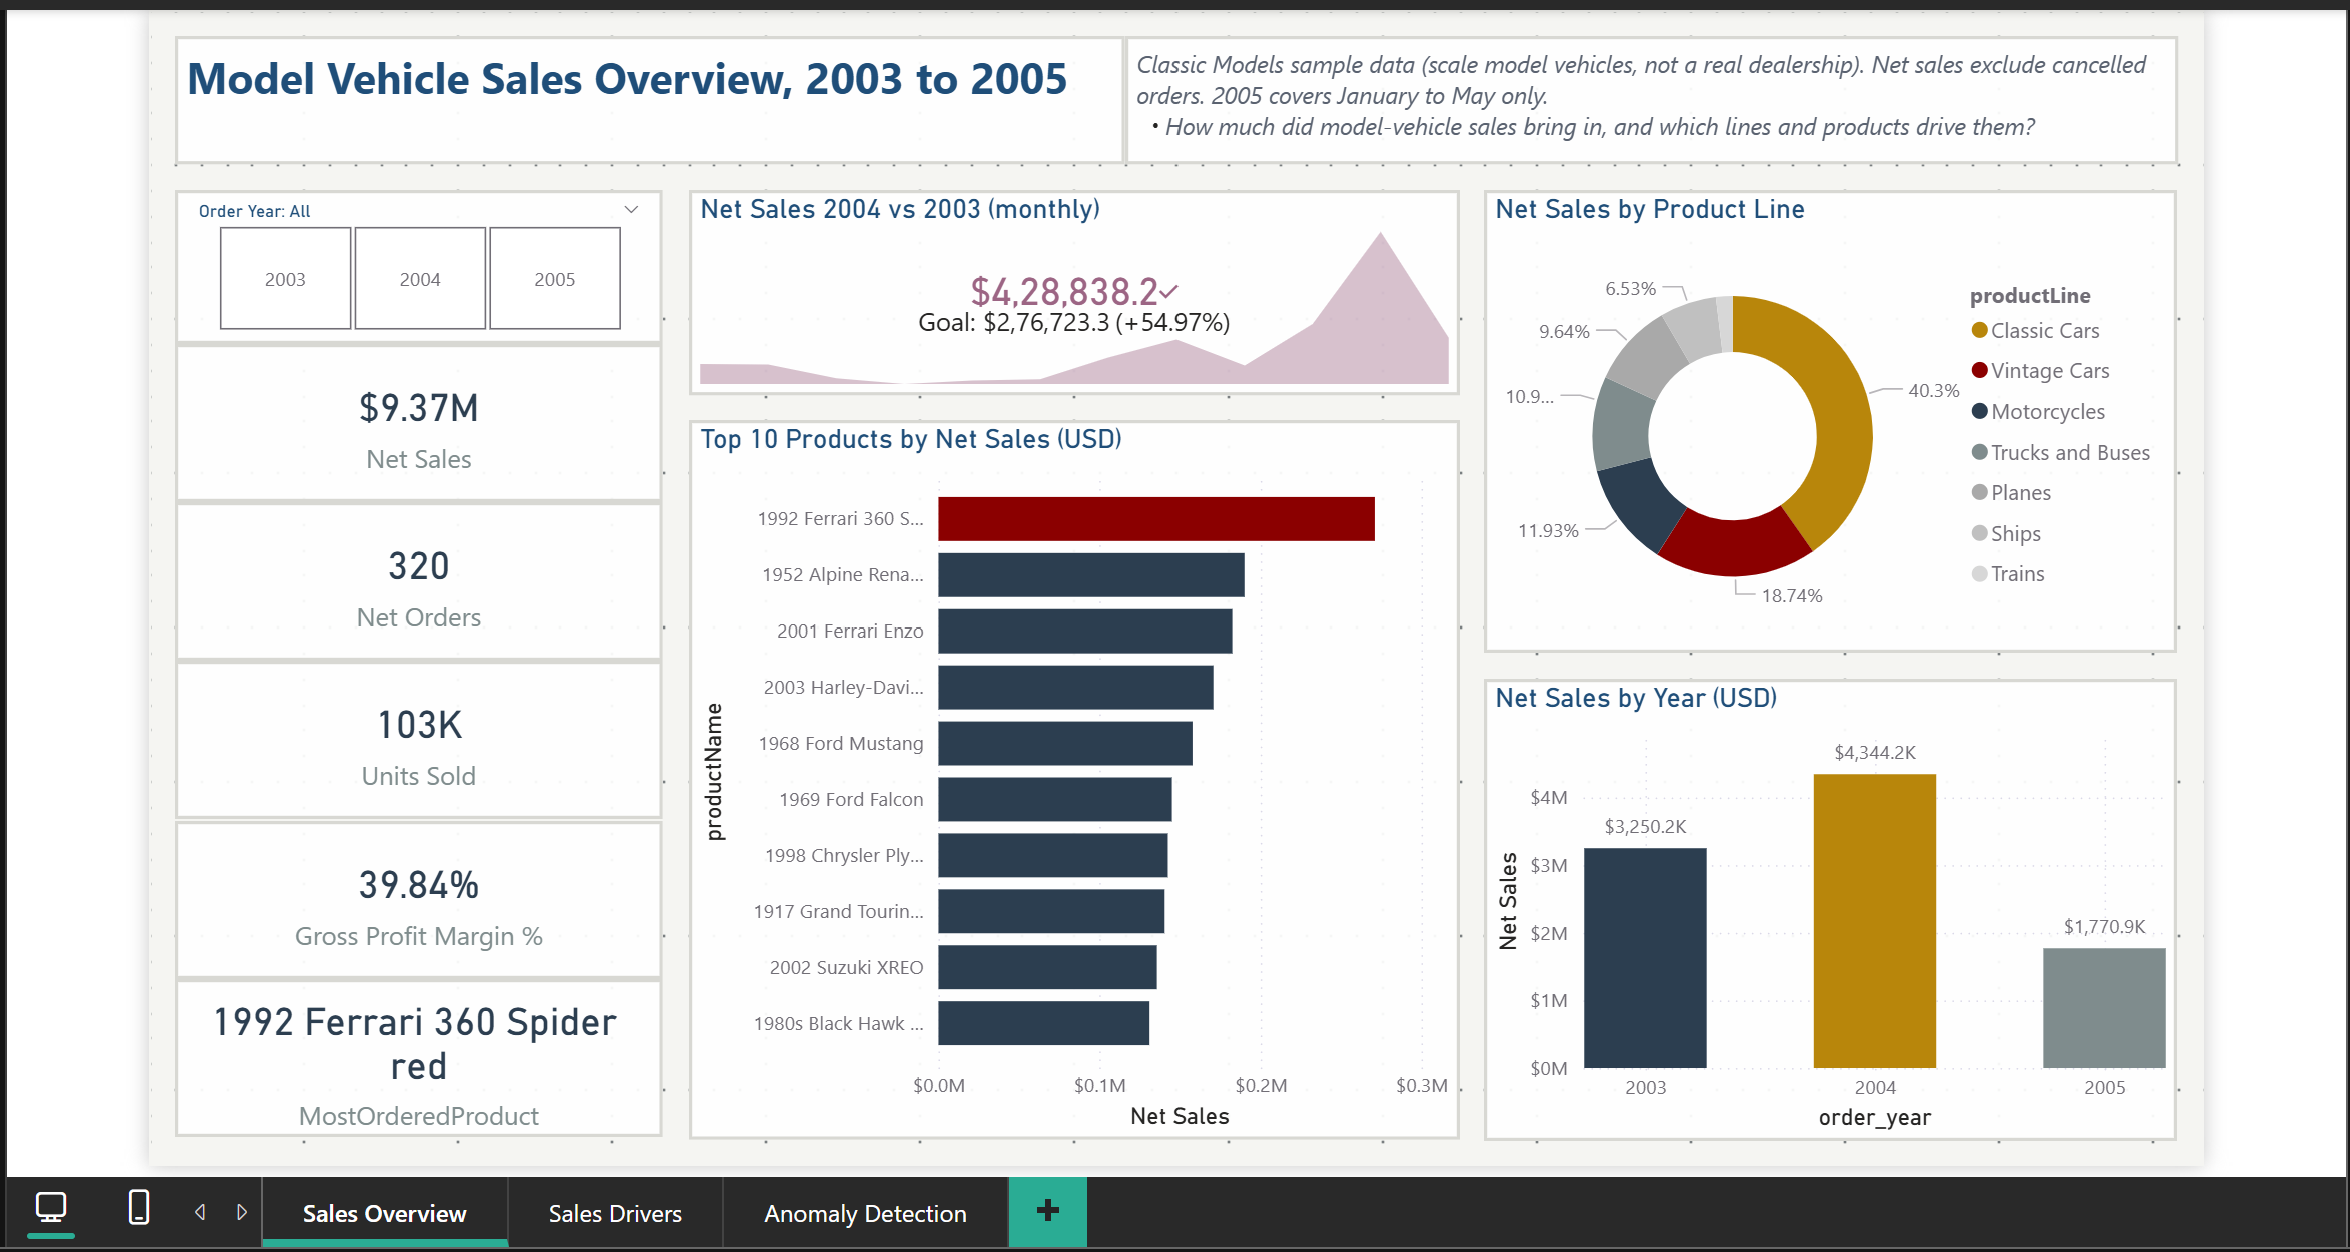

What the dashboard file says about the page in this screenshot:
{"tool":"powerbi","page":{"name":"Sales Overview","canvas":[1280,720],"ordinal":0},"visuals":[{"type":"textbox","box":[16,16,592,80],"z":0,"group":"g1"},{"type":"donutChart","title":"Net Sales by Product Line","fields":{"Category":["products.productLine"],"Y":["_Measures.Net Sales"]},"box":[832,112,432,288],"z":0},{"type":"textbox","box":[608,16,656,80],"z":1000,"group":"g1"},{"type":"barChart","title":"Top 10 Products by Net Sales (USD)","fields":{"Category":["products.productName"],"Y":["_Measures.Net Sales"]},"box":[336,256,480,448],"z":3000},{"type":"columnChart","title":"Net Sales by Year (USD)","fields":{"Category":["orders.order_year"],"Y":["_Measures.Net Sales"]},"box":[832,416,432,288],"z":4000},{"type":"group","id":"g1","title":"Group 2","box":[16,16,1248,80],"z":5000},{"type":"group","id":"g2","title":"Group 1","box":[16,208,304,496],"z":6000},{"type":"card","fields":{"Values":["_Measures.Net Sales"]},"box":[16,208,304,98.7],"z":6000,"group":"g2"},{"type":"kpi","title":"Net Sales 2004 vs 2003 (monthly)","fields":{"Indicator":["_Measures.Net Sales 2004"],"TrendLine":["orders.orderDate.Variation.Date Hierarchy.Month"],"Goal":["_Measures.Net Sales 2003"]},"box":[336,112,480,128],"z":7000},{"type":"card","fields":{"Values":["_Measures.Net Orders"]},"box":[16,306.7,304,98.7],"z":7000,"group":"g2"},{"type":"slicer","fields":{"Values":["orders.orderDate.Variation.Date Hierarchy.Year"]},"box":[16,112,304,96],"z":8000},{"type":"card","fields":{"Values":["_Measures.Units Sold"]},"box":[16,405.5,304,98.7],"z":8000,"group":"g2"},{"type":"card","fields":{"Values":["_Measures.Gross Profit Margin %"]},"box":[16,504.2,304,98.7],"z":9000,"group":"g2"},{"type":"card","fields":{"Values":["order details.MostOrderedProduct"]},"box":[16,603,304,98.7],"z":10000,"group":"g2"}]}

Visuals, with their boxes on the page's 1280x720 design canvas (x1, y1, x2, y2). These are canvas units, not pixel positions in the 2350x1252 screenshot, which may show the page scaled, cropped or inside an application window:
textbox: l=16, t=16, r=608, b=96
"Net Sales by Product Line" donutChart: l=832, t=112, r=1264, b=400
textbox: l=608, t=16, r=1264, b=96
"Top 10 Products by Net Sales (USD)" barChart: l=336, t=256, r=816, b=704
"Net Sales by Year (USD)" columnChart: l=832, t=416, r=1264, b=704
"Group 2" group: l=16, t=16, r=1264, b=96
"Group 1" group: l=16, t=208, r=320, b=704
card - _Measures.Net Sales: l=16, t=208, r=320, b=307
"Net Sales 2004 vs 2003 (monthly)" kpi: l=336, t=112, r=816, b=240
card - _Measures.Net Orders: l=16, t=307, r=320, b=405
slicer - orders.orderDate.Variation.Date Hierarchy.Year: l=16, t=112, r=320, b=208
card - _Measures.Units Sold: l=16, t=406, r=320, b=504
card - _Measures.Gross Profit Margin %: l=16, t=504, r=320, b=603
card - order details.MostOrderedProduct: l=16, t=603, r=320, b=702
